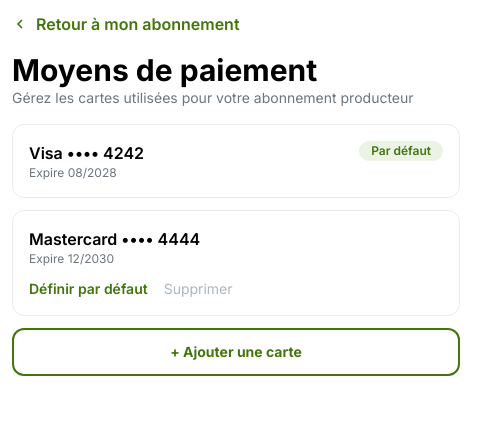
Test: PaymentMethodsComponent › affiche le message du back quand une action est refusée
Click the button "Supprimer" at point(198, 289), box [164, 279, 233, 299]
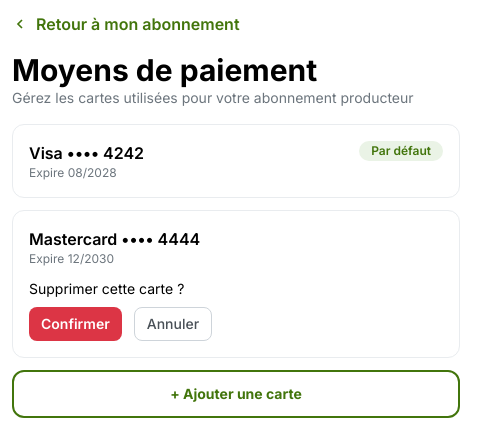
Click the button "Confirmer" at point(75, 324), box [29, 307, 122, 341]
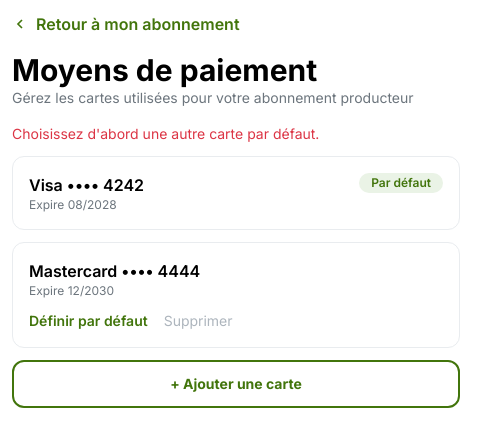
Check: the message "Choisissez d'abord une autre carte par défaut." is shown, box [12, 125, 319, 142]
